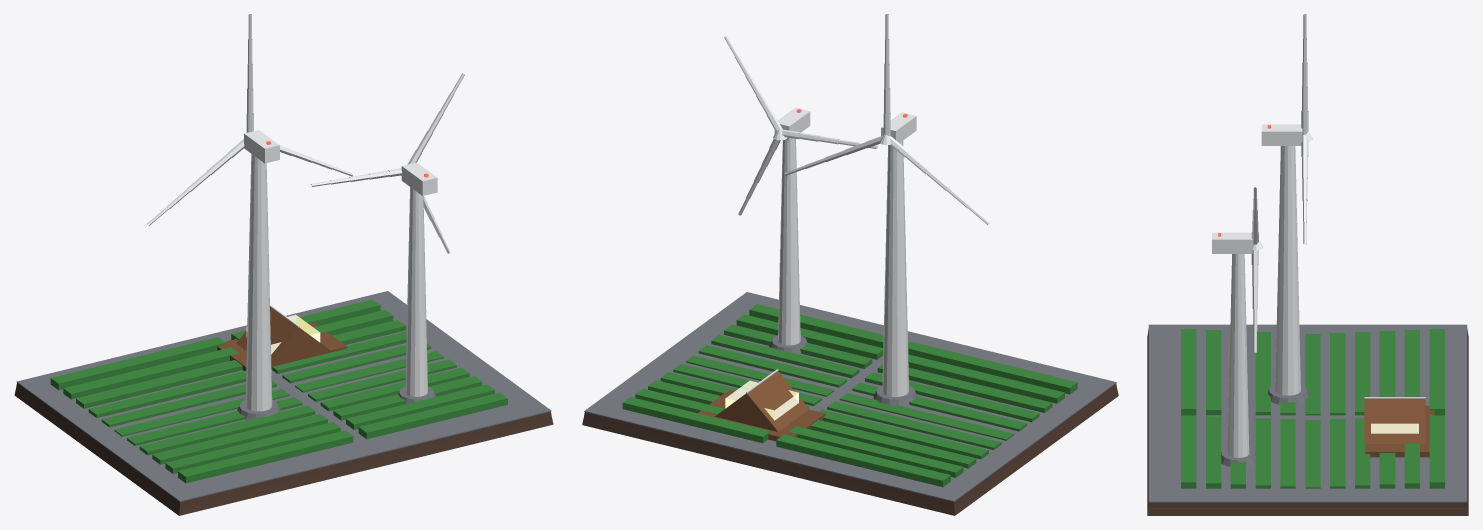
File: lm_22_dien_gio_cau_dat.glb
3 views of the same model, side by side, from view 1: azimuth 30°, elevation 25°; view 2: azimuth 150°, elevation 25°; view 3: azimuth 270°, elevation 25° (orthographic). The views are drawn at different scales.
Visible parts, largest first — view 1: CauDat_Contoured_Tea_Terraces, Foundation_Plinth_Trim, CauDat_Wind_Turbine_Towers_And_Blades, Foundation_Skirt, CauDat_CloudCafe_AFrame_Roof, CauDat_CloudHunting_Cafe_Timber, CauDat_Turbine_Foundations; view 2: CauDat_Contoured_Tea_Terraces, Foundation_Plinth_Trim, CauDat_Wind_Turbine_Towers_And_Blades, Foundation_Skirt, CauDat_CloudCafe_AFrame_Roof, CauDat_CloudHunting_Cafe_Timber, CauDat_Turbine_Foundations, CauDat_CloudCafe_Glass_Glow; view 3: Foundation_Plinth_Trim, CauDat_Contoured_Tea_Terraces, CauDat_Wind_Turbine_Towers_And_Blades, Foundation_Skirt, CauDat_CloudCafe_AFrame_Roof, CauDat_Turbine_Foundations, CauDat_CloudHunting_Cafe_Timber, CauDat_CloudCafe_Glass_Glow.
Part boxes in pixels (x1,y1,x2,y2): CauDat_Contoured_Tea_Terraces: (50,299,507,483); Foundation_Plinth_Trim: (16,291,551,501); CauDat_Wind_Turbine_Towers_And_Blades: (147,14,464,411); Foundation_Skirt: (14,383,553,515); CauDat_CloudCafe_AFrame_Roof: (236,307,330,365); CauDat_CloudHunting_Cafe_Timber: (217,322,347,370); CauDat_Turbine_Foundations: (237,387,436,419); CauDat_Contoured_Tea_Terraces: (622,304,1077,487); Foundation_Plinth_Trim: (584,292,1116,501); CauDat_Wind_Turbine_Towers_And_Blades: (724,14,989,396); Foundation_Skirt: (582,384,1118,515); CauDat_CloudCafe_AFrame_Roof: (715,371,809,431); CauDat_CloudHunting_Cafe_Timber: (698,390,825,441); CauDat_Turbine_Foundations: (769,335,917,406); CauDat_CloudCafe_Glass_Glow: (725,380,798,420); Foundation_Plinth_Trim: (1148,324,1467,502); CauDat_Contoured_Tea_Terraces: (1181,329,1444,488); CauDat_Wind_Turbine_Towers_And_Blades: (1212,14,1312,457); Foundation_Skirt: (1147,329,1468,515); CauDat_CloudCafe_AFrame_Roof: (1364,398,1425,443); CauDat_Turbine_Foundations: (1221,384,1308,466); CauDat_CloudHunting_Cafe_Timber: (1365,405,1434,457); CauDat_CloudCafe_Glass_Glow: (1371,423,1418,433).
Bounding box in the file's own units: 84.87 × 87.77 × 64.67.
